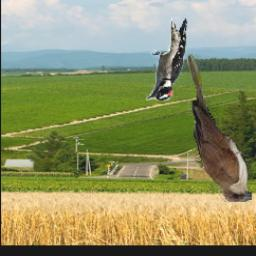Cuckoo: (188, 53, 253, 202)
Woodpecker: (147, 19, 188, 101)
